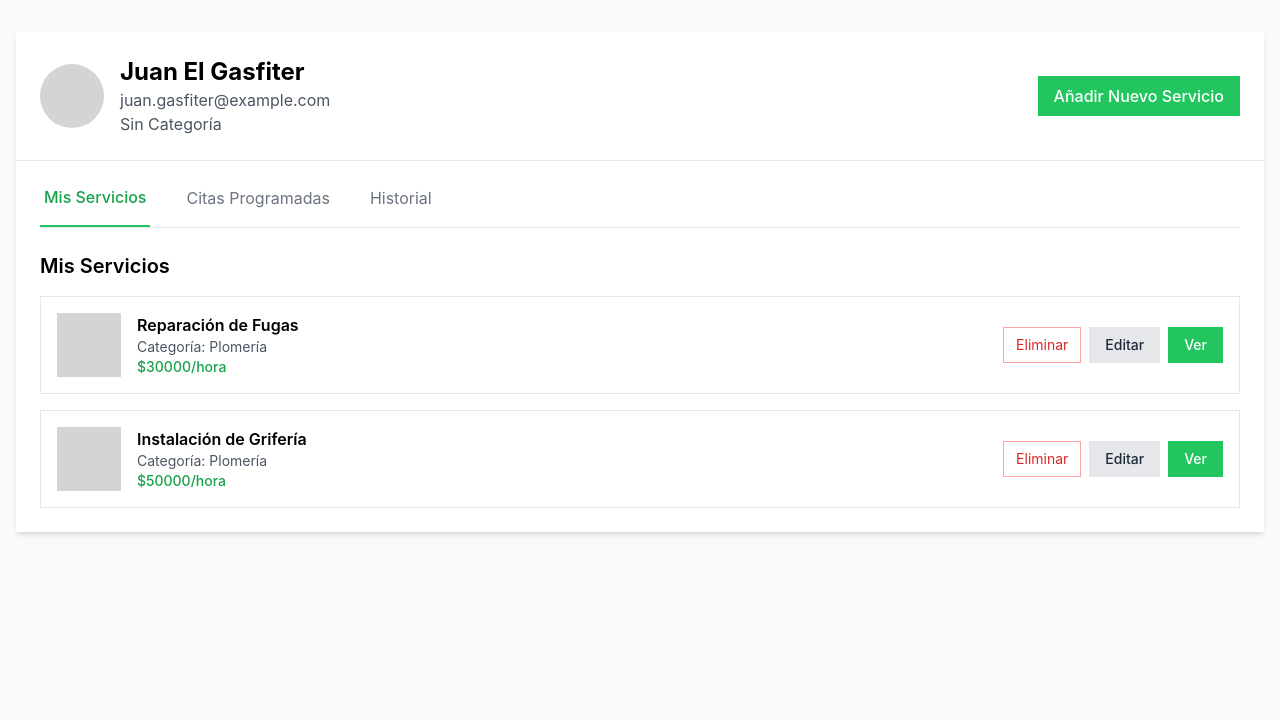
Test: Panel de Profesional (ProDashboard) › debería cambiar a la pestaña de historial y mostrar las citas completadas
The width and height of the screenshot is (1280, 720).
expect the heading "Reparación de Fugas" is shown: met, box [137,313,299,337]
Click the button "Historial" at (401,206), box [366,185,436,227]
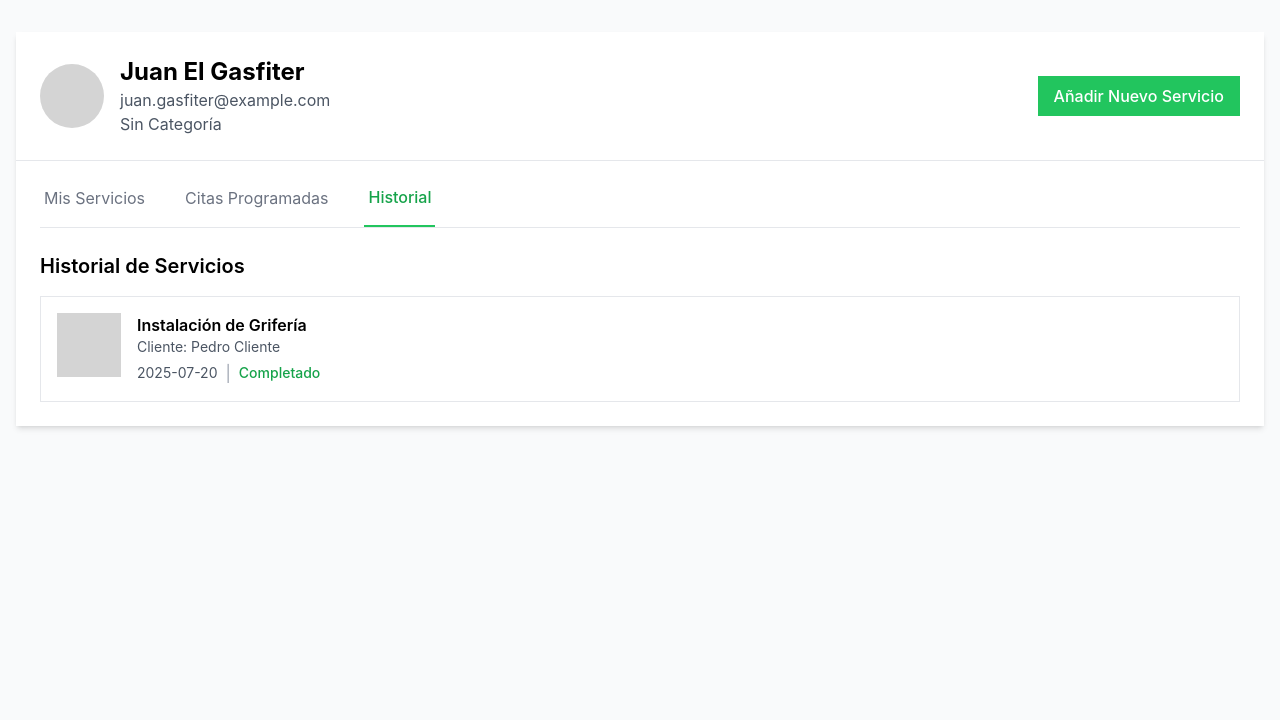
expect the heading "Historial de Servicios" is shown: met, box [40,254,245,278]
expect the text "Cliente: Pedro Cliente" is shown: met, box [137,338,280,355]
